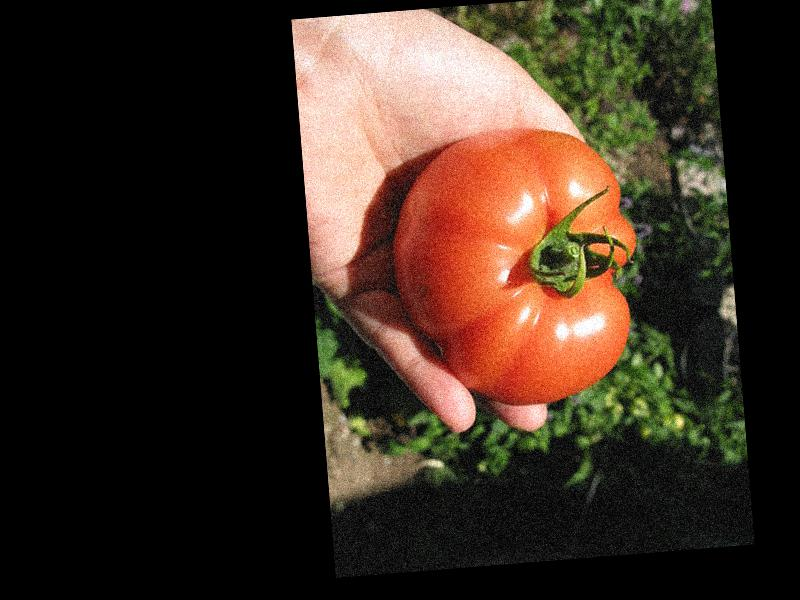Tomato: (388, 122, 648, 414)
